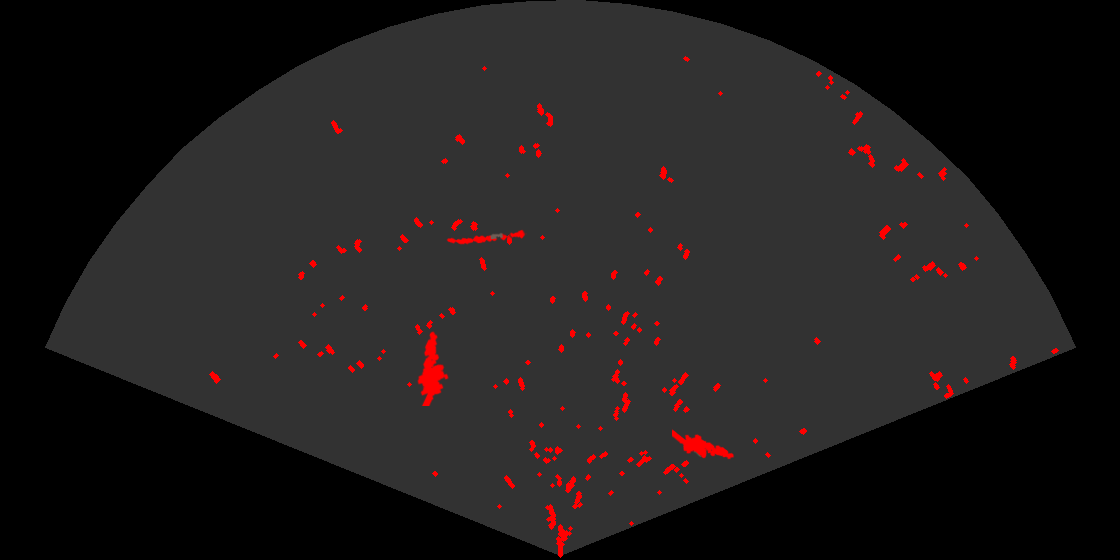chain: (445, 228, 527, 246)
frogman: (416, 330, 450, 406), (672, 428, 736, 461)
